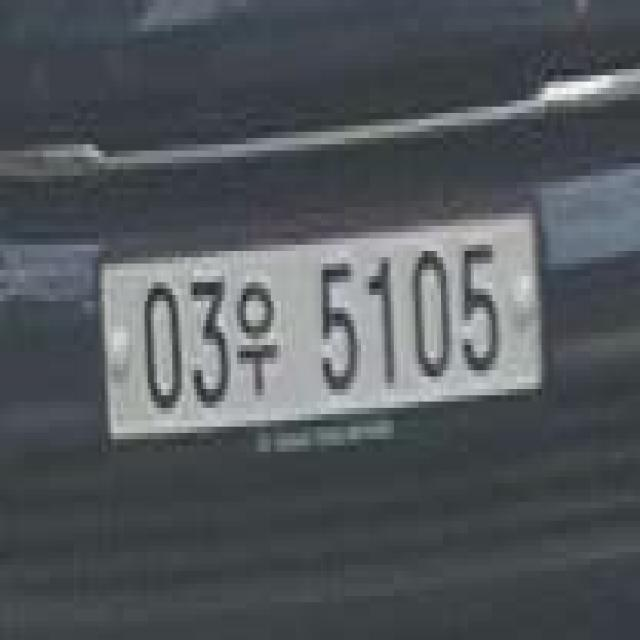0: (410, 230, 456, 384), (140, 277, 184, 424)
1: (362, 238, 408, 401)
3: (190, 264, 233, 428)
5: (461, 226, 507, 387), (316, 260, 358, 408)
license_plate: (94, 173, 556, 467)
u: (238, 273, 288, 407)
